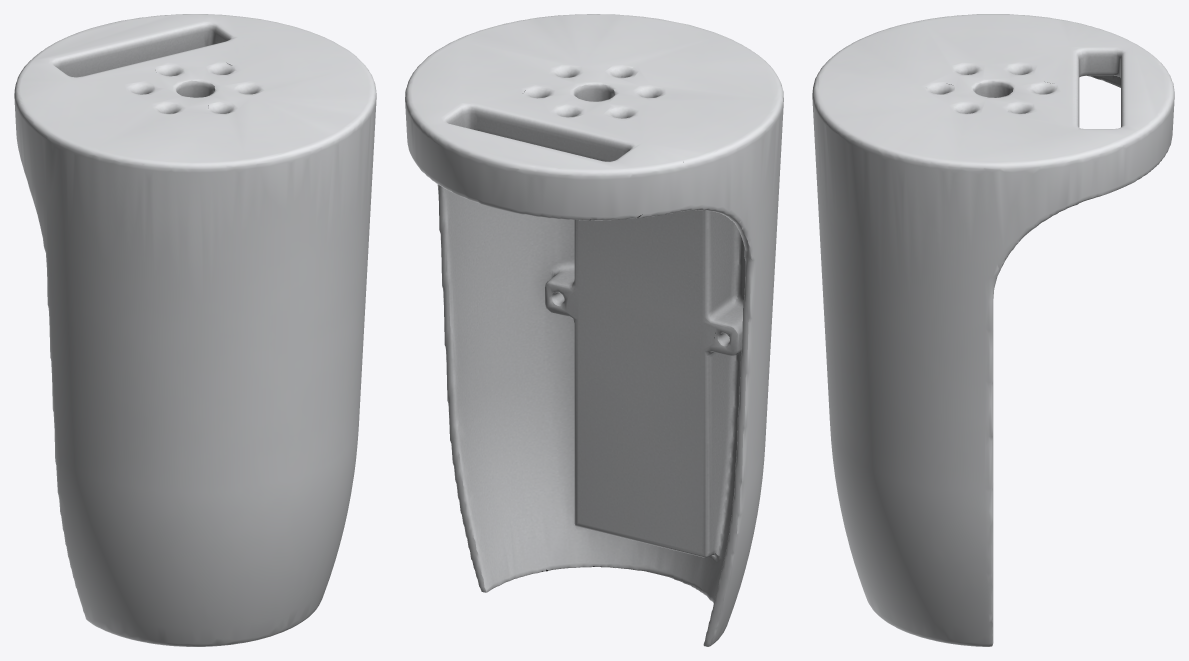
The model's file is Left_forarm_lower_1.glb.
The picture shows the model from 3 angles, left to right: view 1: azimuth 30°, elevation 25°; view 2: azimuth 150°, elevation 25°; view 3: azimuth 270°, elevation 25°; orthographic projection. The views are drawn at different scales.
Visible parts, largest first — view 1: Left_forarm_lower_1; view 2: Left_forarm_lower_1; view 3: Left_forarm_lower_1.
Part boxes in pixels (x1,y1,x2,y2): Left_forarm_lower_1: (14,14,376,646); Left_forarm_lower_1: (405,14,783,646); Left_forarm_lower_1: (812,14,1174,646).
Bounding box in the file's own units: 0.0729 × 0.1123 × 0.0729.
Materials: 1 (1 with a texture image).
